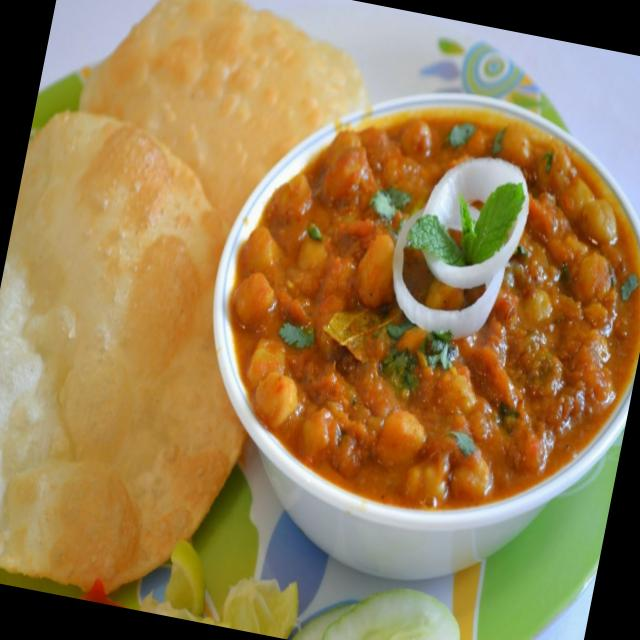Bhatura: (0, 104, 297, 615), (60, 0, 381, 250)
Chole: (195, 67, 640, 548)
